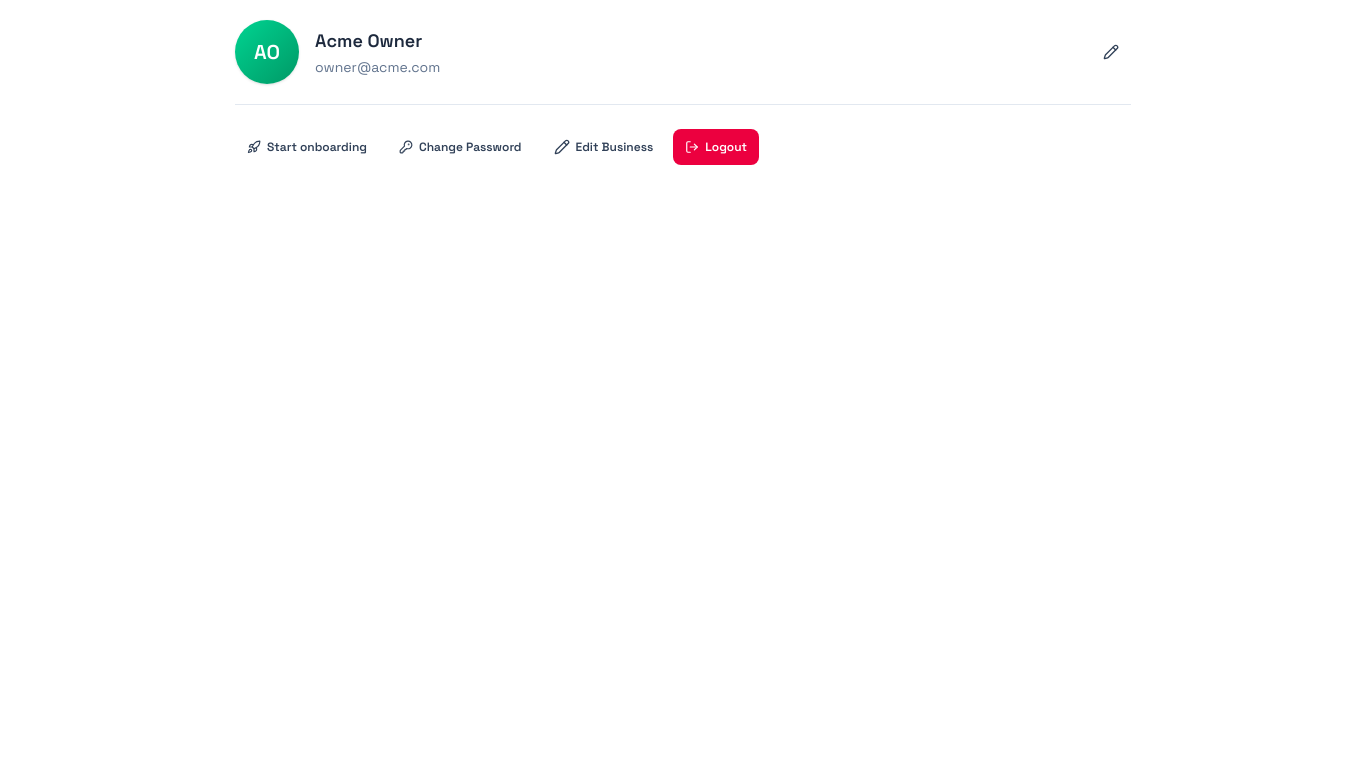
ProfilePage Component › shows validation error when saving empty name
Expected: the text "Acme Owner" is shown, [315,29,422,52]
Click the button named "edit profile".
click(1111, 52)  # box [1091,34,1131,70]
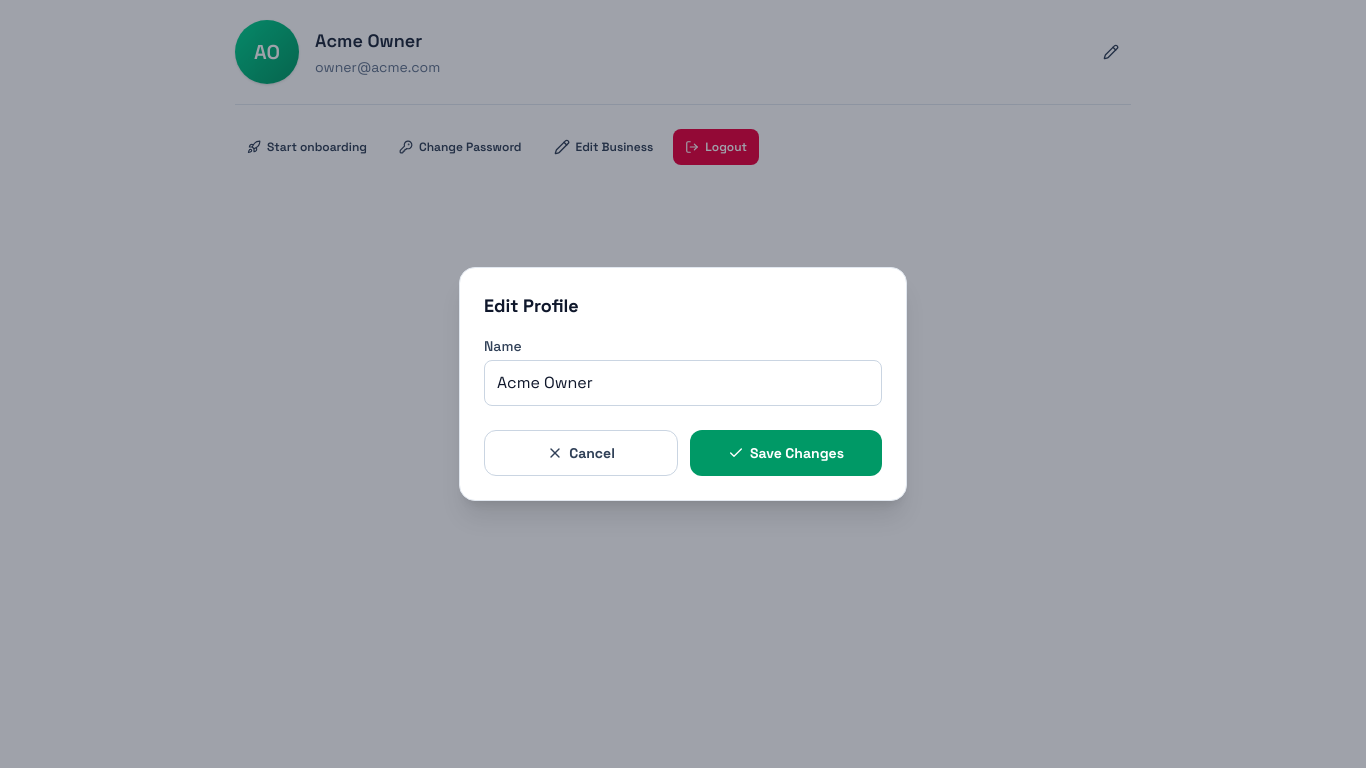
Clear the field with placeholder "Enter your name" at (683, 383), box [484,360,882,406]
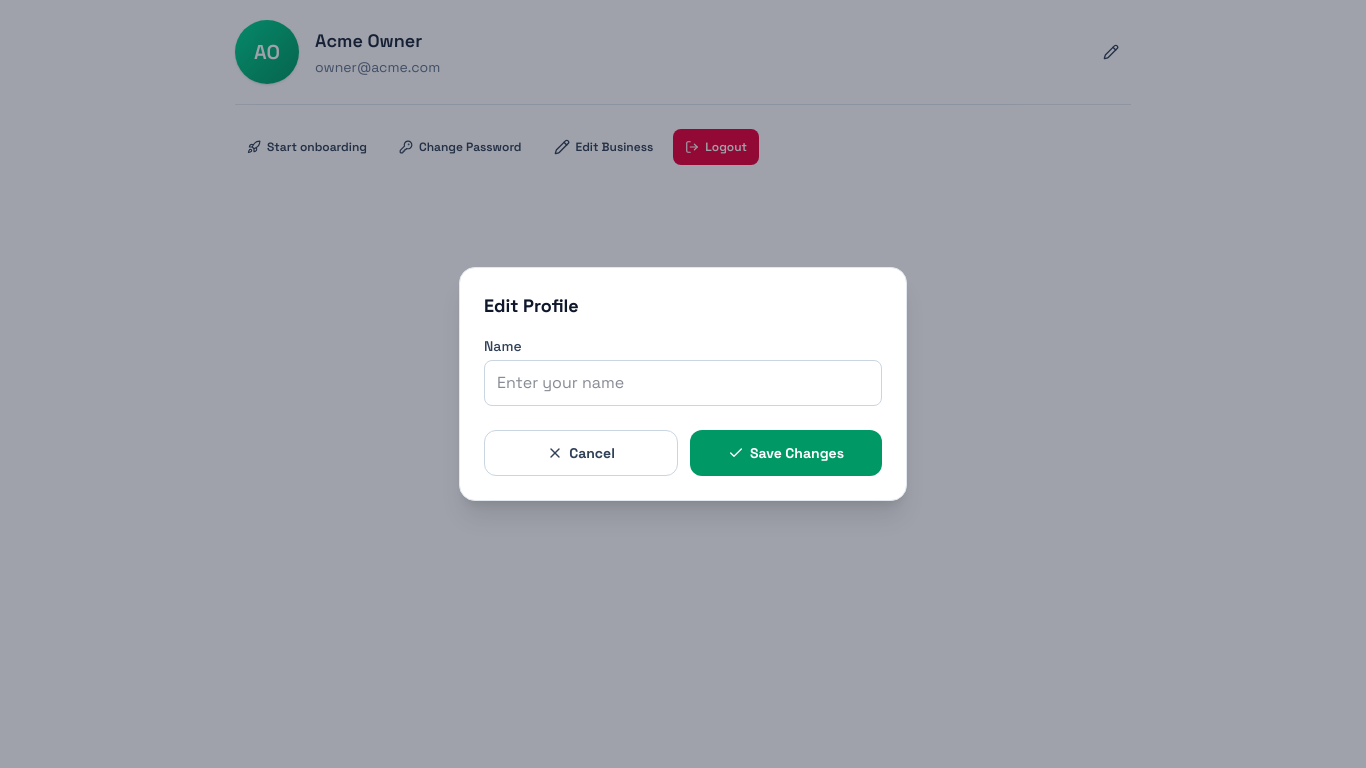
Click the button "Save Changes".
click(786, 453)  # box [690,430,882,476]
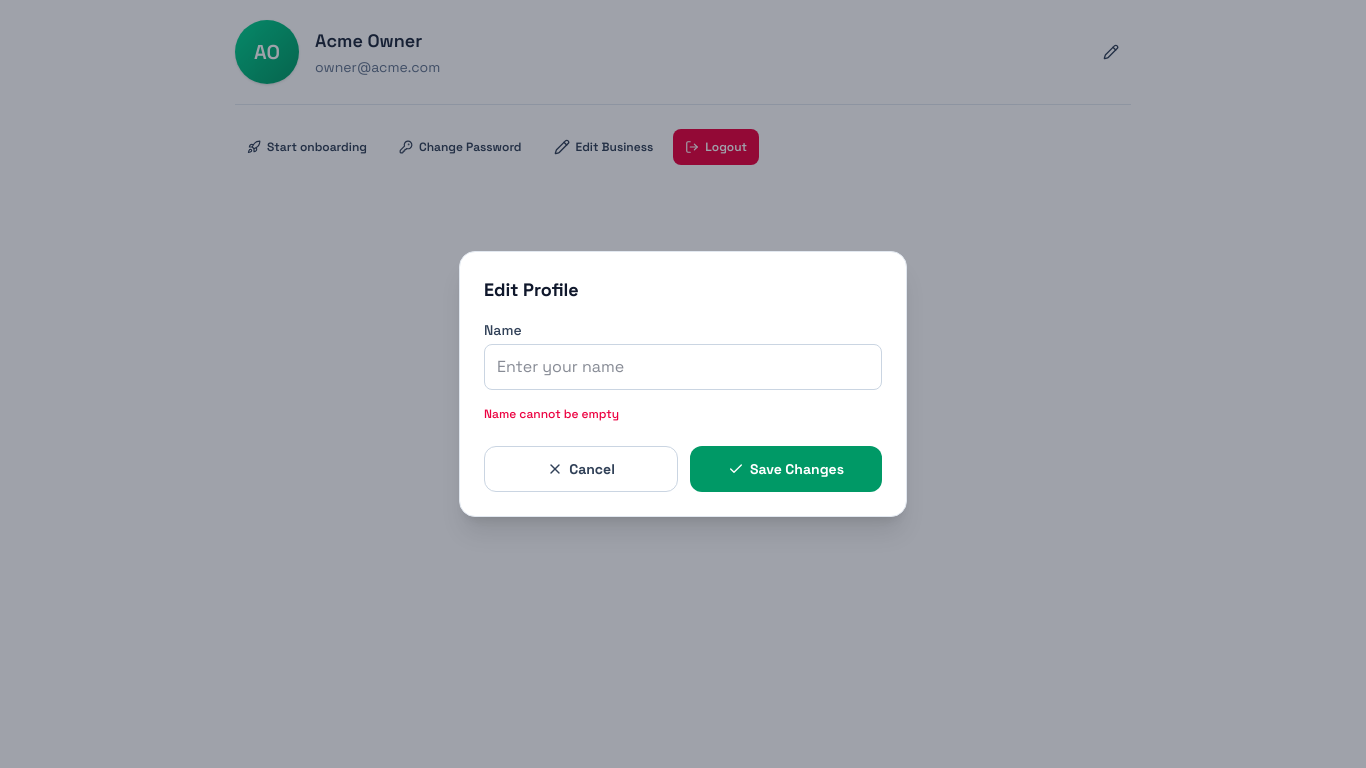
Result: the heading "Edit Profile" is shown at [484,278,579,301]
Result: the text "Name cannot be empty" is shown at [484,406,619,422]
